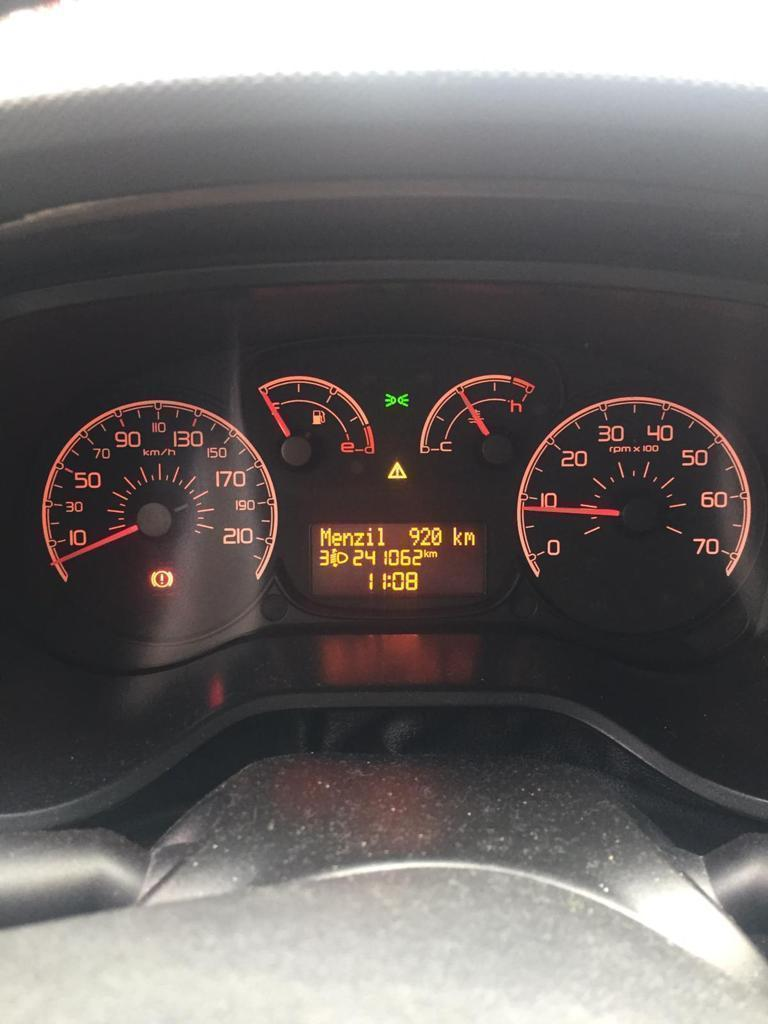0: (430, 526, 443, 546), (392, 570, 404, 591), (387, 548, 400, 567)
1: (364, 571, 374, 591), (377, 570, 386, 591), (380, 548, 386, 567)
2: (420, 525, 431, 547), (352, 548, 364, 567), (411, 548, 422, 567)
3: (317, 548, 329, 567)
4: (364, 548, 376, 566)
6: (400, 548, 411, 566)
8: (405, 570, 419, 592)
9: (408, 526, 420, 545)
X: (450, 524, 462, 547), (319, 526, 331, 548), (375, 525, 386, 547), (462, 530, 475, 547), (364, 526, 374, 547), (330, 531, 342, 547), (341, 531, 353, 547), (354, 532, 365, 546), (386, 573, 392, 588), (428, 550, 438, 558), (423, 547, 428, 558)
odometer: (307, 517, 490, 604)
